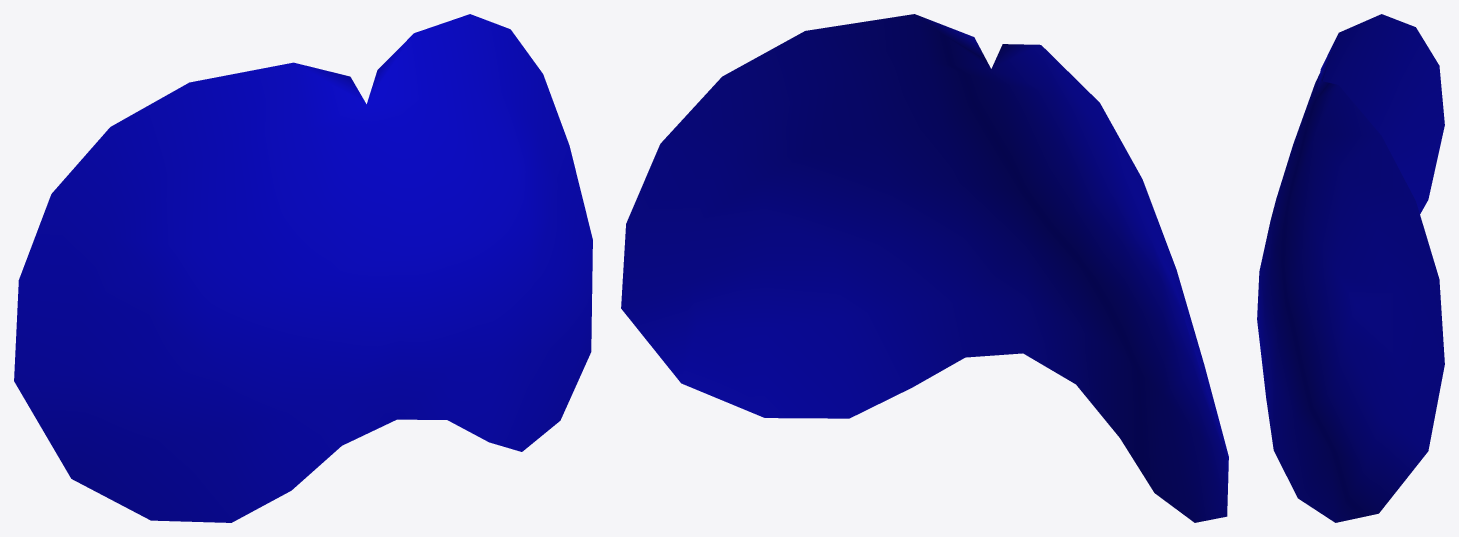
File: eyeWhite_46.glb
3 renders of one model, left to right at view 1: azimuth 30°, elevation 25°; view 2: azimuth 150°, elevation 25°; view 3: azimuth 270°, elevation 25°, orthographic. The views are drawn at different scales.
Parts seen in each view (by area): view 1: eyeWhite; view 2: eyeWhite; view 3: eyeWhite.
Boxes of the visible parts, <box> form: eyeWhite: <box>14,14,592,522</box>; eyeWhite: <box>621,14,1228,522</box>; eyeWhite: <box>1257,14,1444,522</box>.
Bounding box in the file's own units: 0.1411 × 0.0985 × 0.0446.
